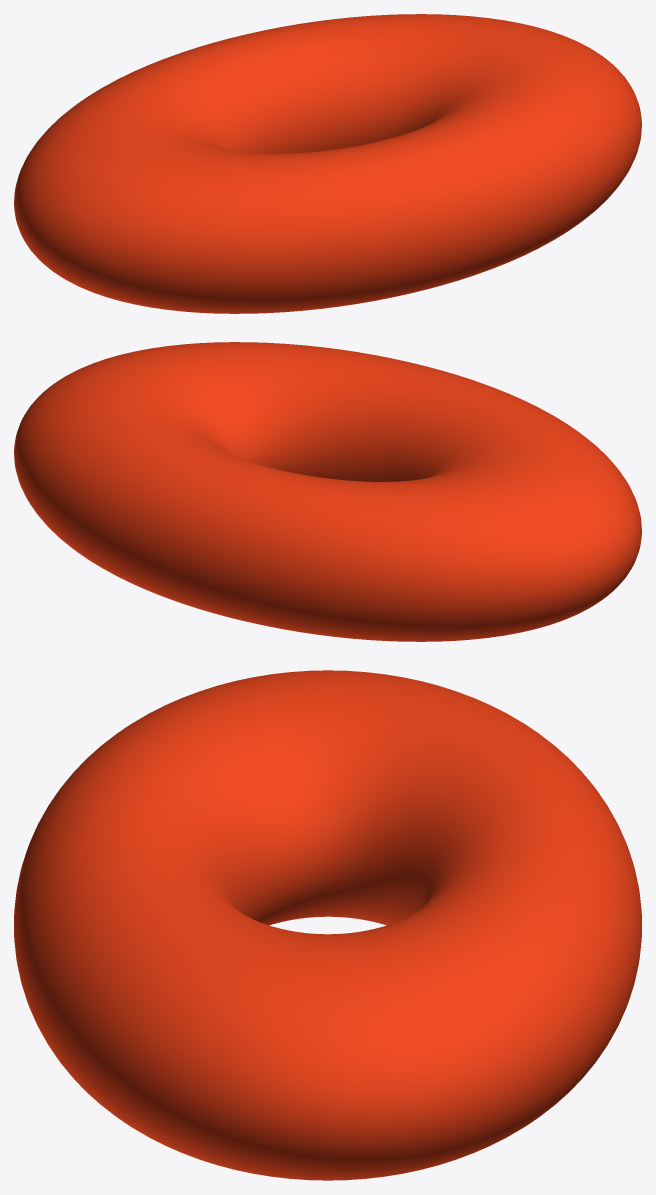
3 views of the same model, one above another, from view 1: azimuth 30°, elevation 25°; view 2: azimuth 150°, elevation 25°; view 3: azimuth 270°, elevation 25° (orthographic). The views are drawn at different scales.
Parts seen in each view (by area): view 1: Torus; view 2: Torus; view 3: Torus.
Boxes of the visible parts, <box> form: Torus: <box>14,14,641,313</box>; Torus: <box>14,342,641,641</box>; Torus: <box>14,670,641,1180</box>.
Size of the model in its own units: 3.2 by 0.7317 by 2.08.
